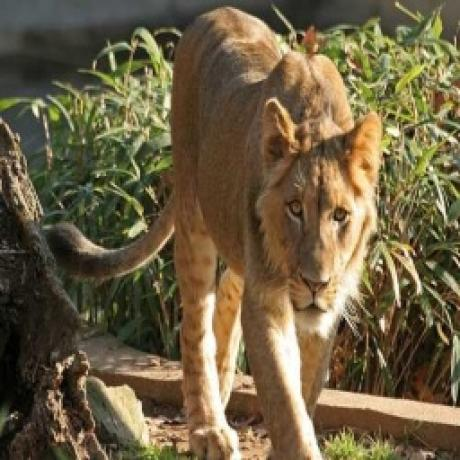Lion: (42, 7, 387, 460)
